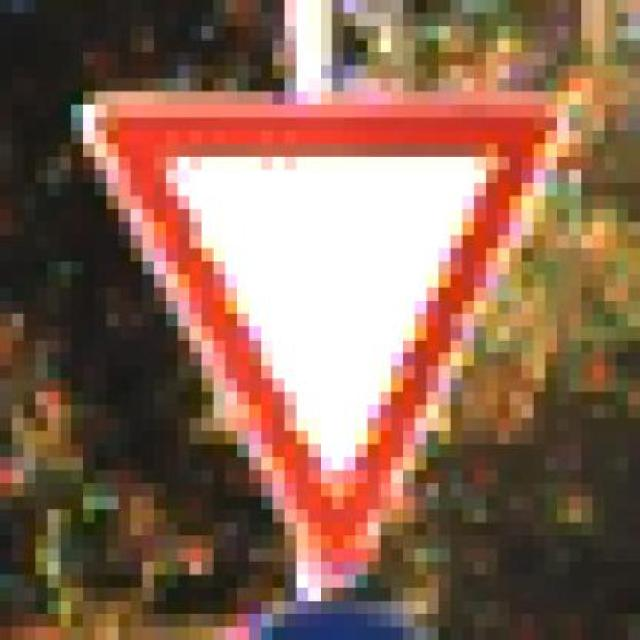Give Way: (47, 65, 593, 588)
